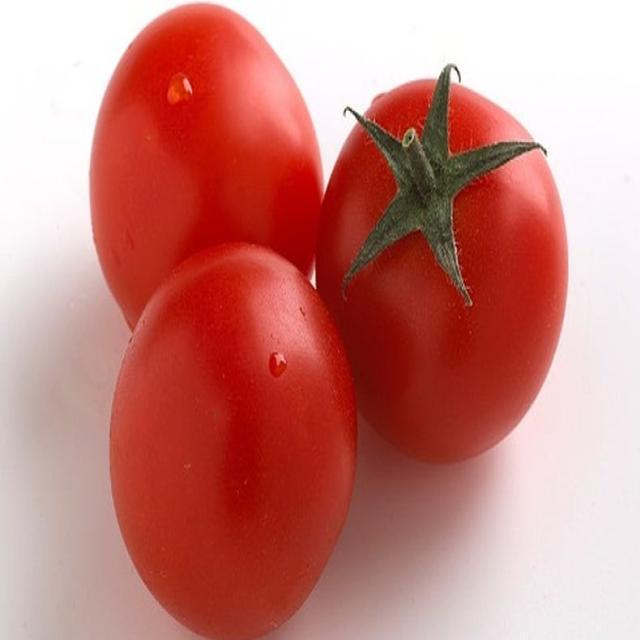kirmizi: (78, 0, 560, 604)
